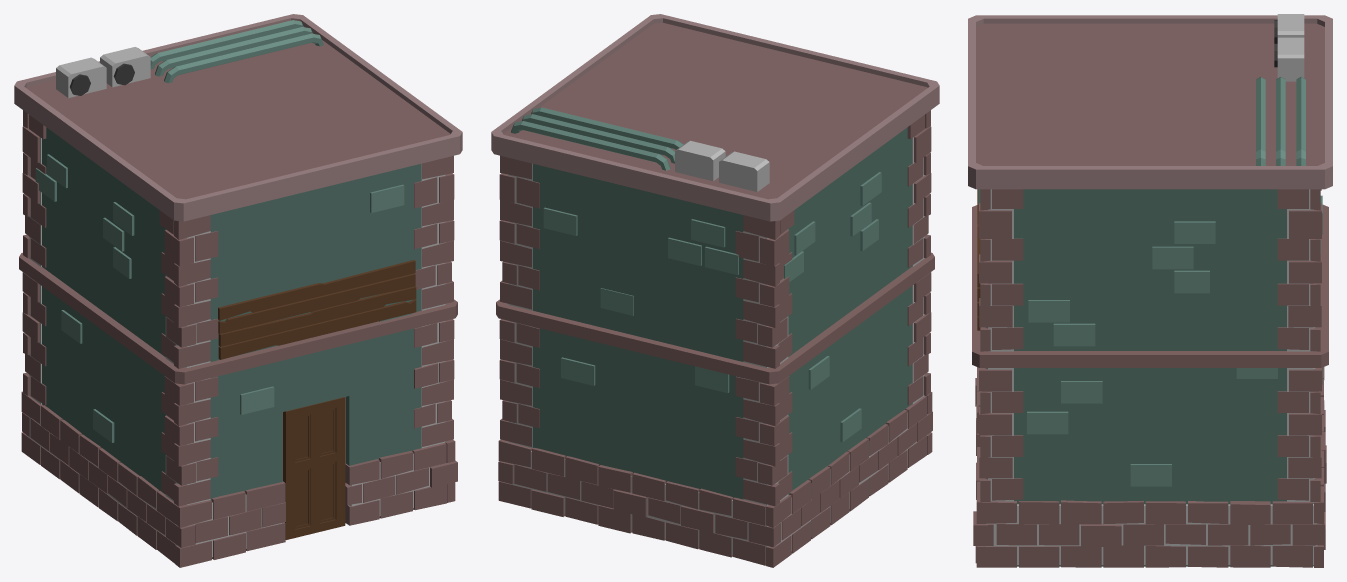
File: 2Story_Sign_Mat.glb
3 renders of one model, left to right at view 1: azimuth 30°, elevation 25°; view 2: azimuth 150°, elevation 25°; view 3: azimuth 270°, elevation 25°, orthographic. The views are drawn at different scales.
Visible parts, largest first — view 1: 2Story_Sign_Mat; view 2: 2Story_Sign_Mat; view 3: 2Story_Sign_Mat.
Boxes of the visible parts, box(x1,y1,x2,y2) form: 2Story_Sign_Mat: box(14, 14, 462, 567); 2Story_Sign_Mat: box(491, 14, 939, 567); 2Story_Sign_Mat: box(968, 14, 1332, 567).
Bounding box in the file's own units: 2.15 × 2.76 × 2.15.
